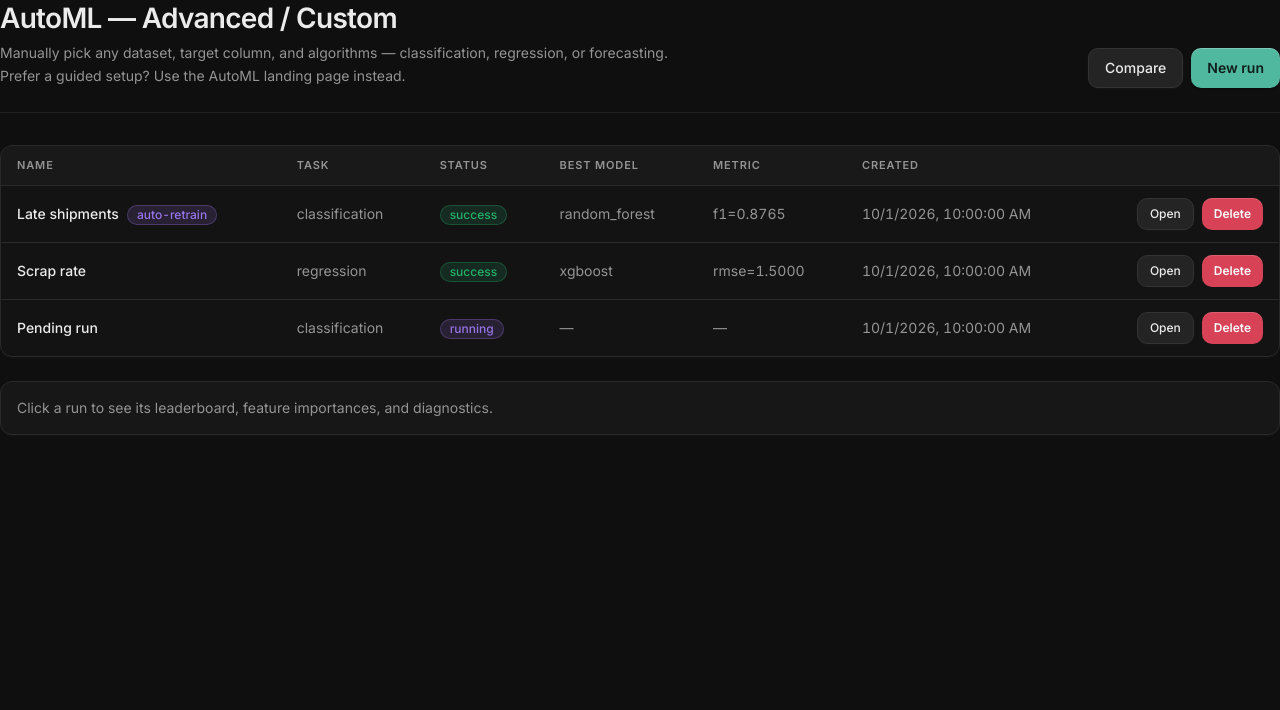
AutoML advanced list › compares two successful runs side by side
Click the button "Compare" at (1136, 68), box [1088,48,1183,88]
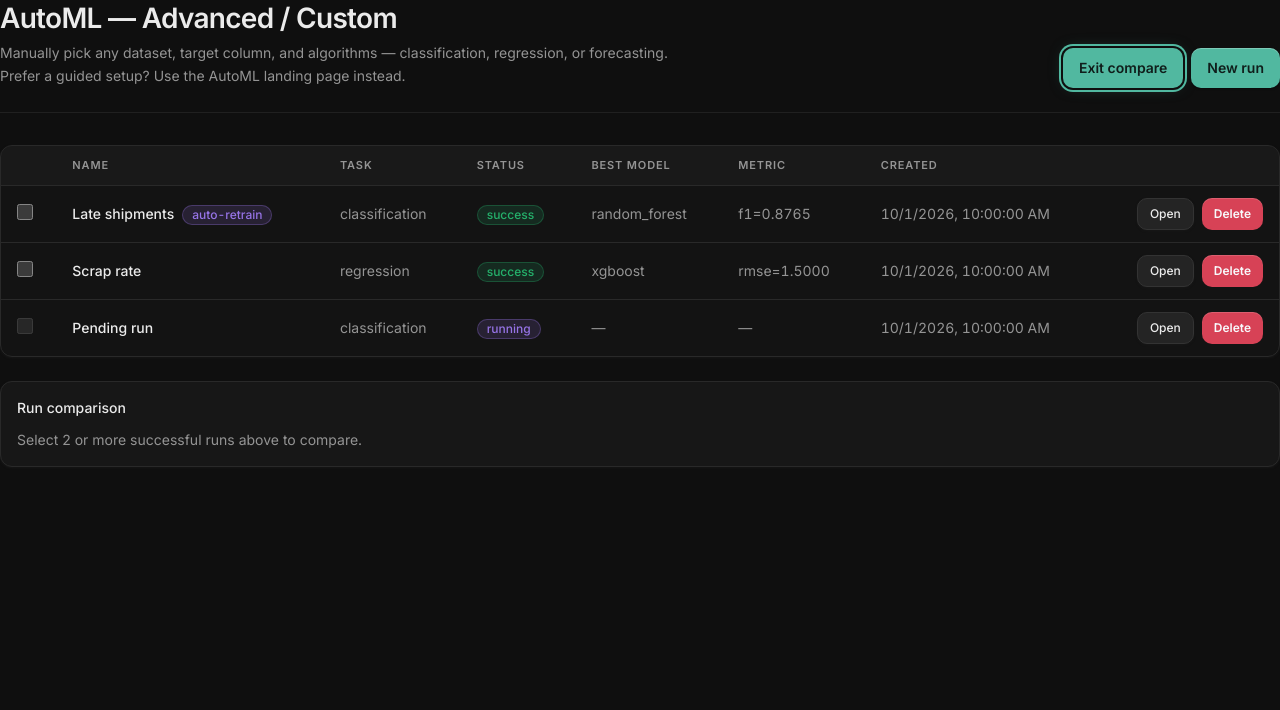
Result: the text "Select 2 or more successful runs above to compare." is shown at [17,431,362,448]
Result: the checkbox next to "Pending run" is disabled at [17,318,33,334]
Click the checkbox next to "Late shipments" at (25, 212), box [17,204,33,220]
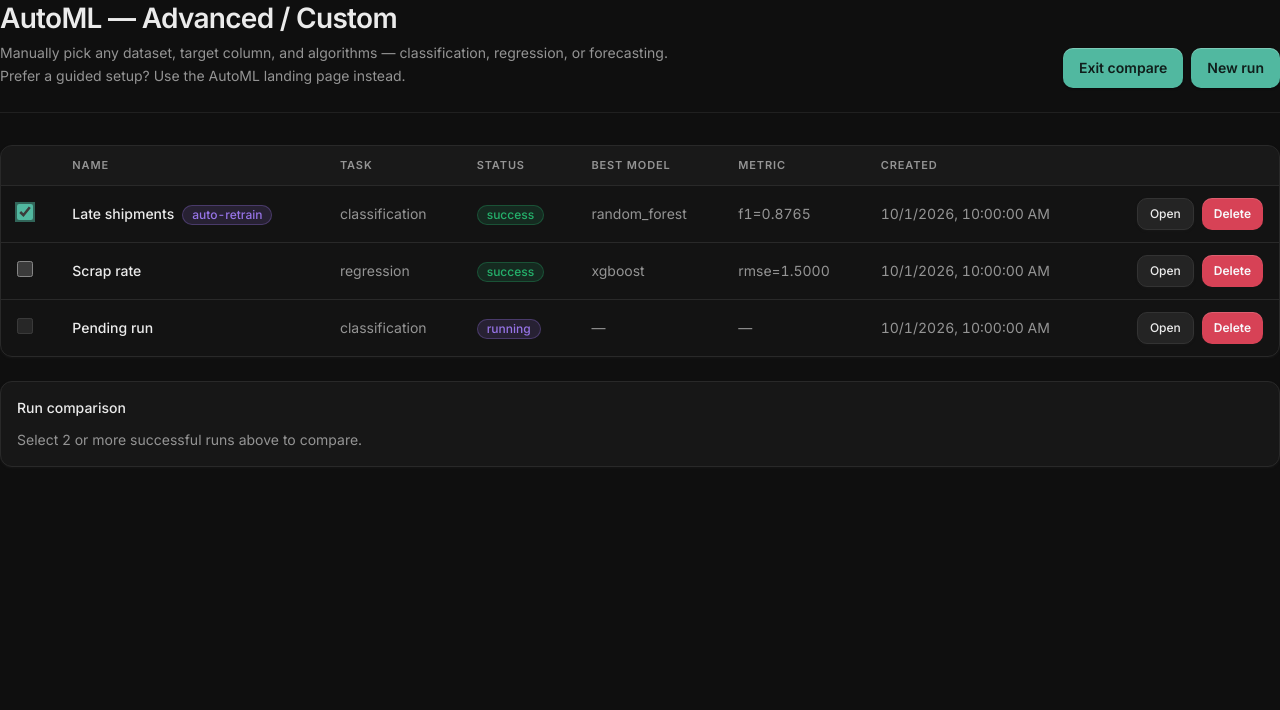
Click the checkbox next to "Scrap rate" at (25, 268), box [17,260,33,276]
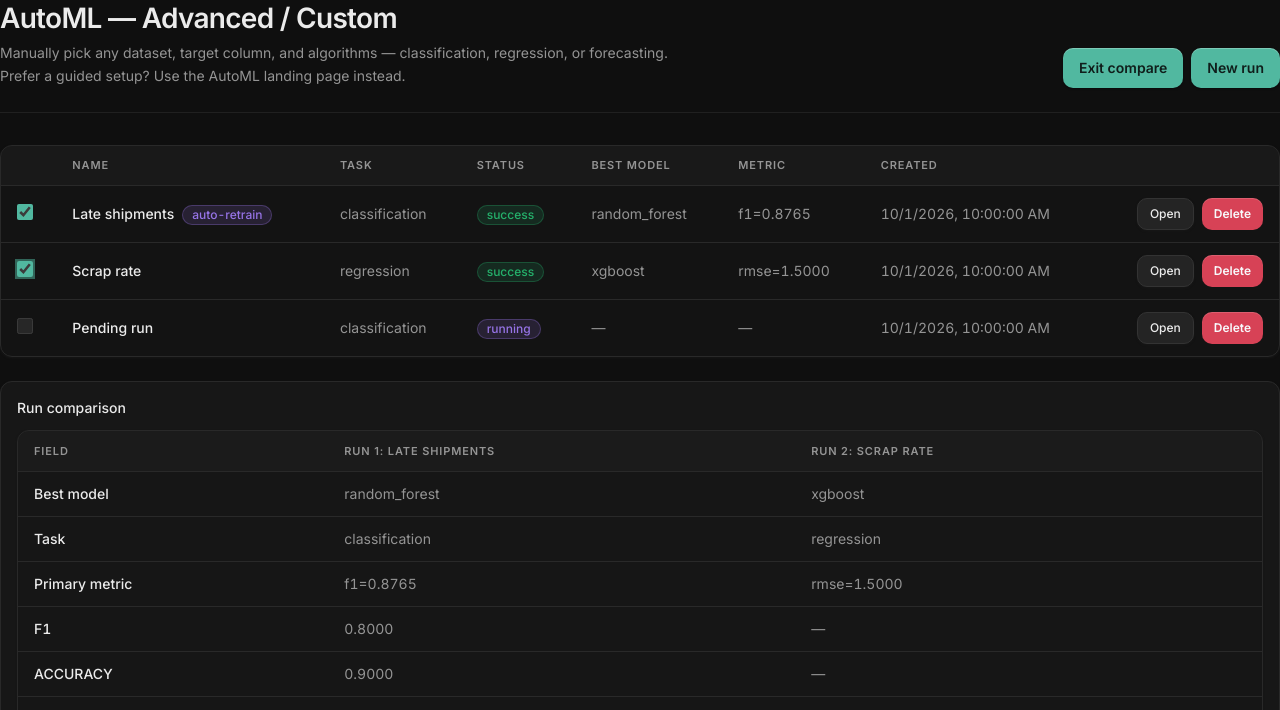
Result: the column heading "Run 1: Late shipments" is shown at [328,431,795,471]
Click the button "Exit compare" at (1123, 68), box [1063,48,1183,88]
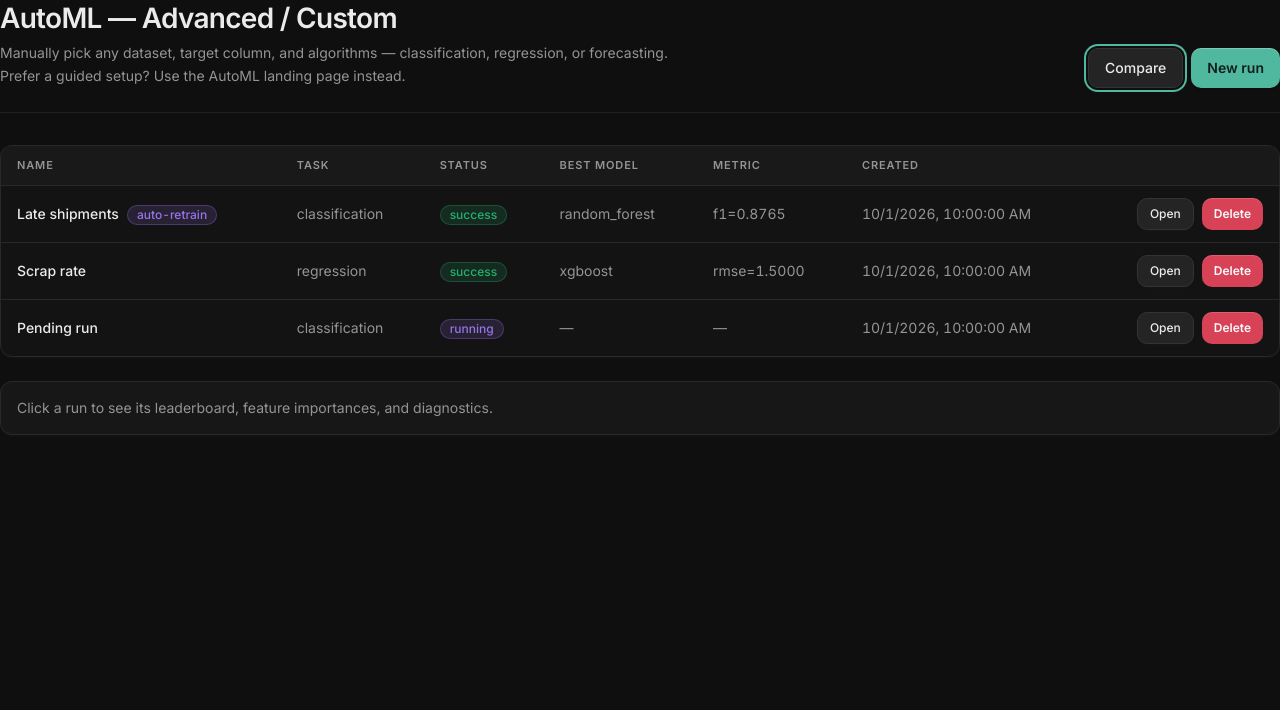
Result: the text "Run comparison" is gone
